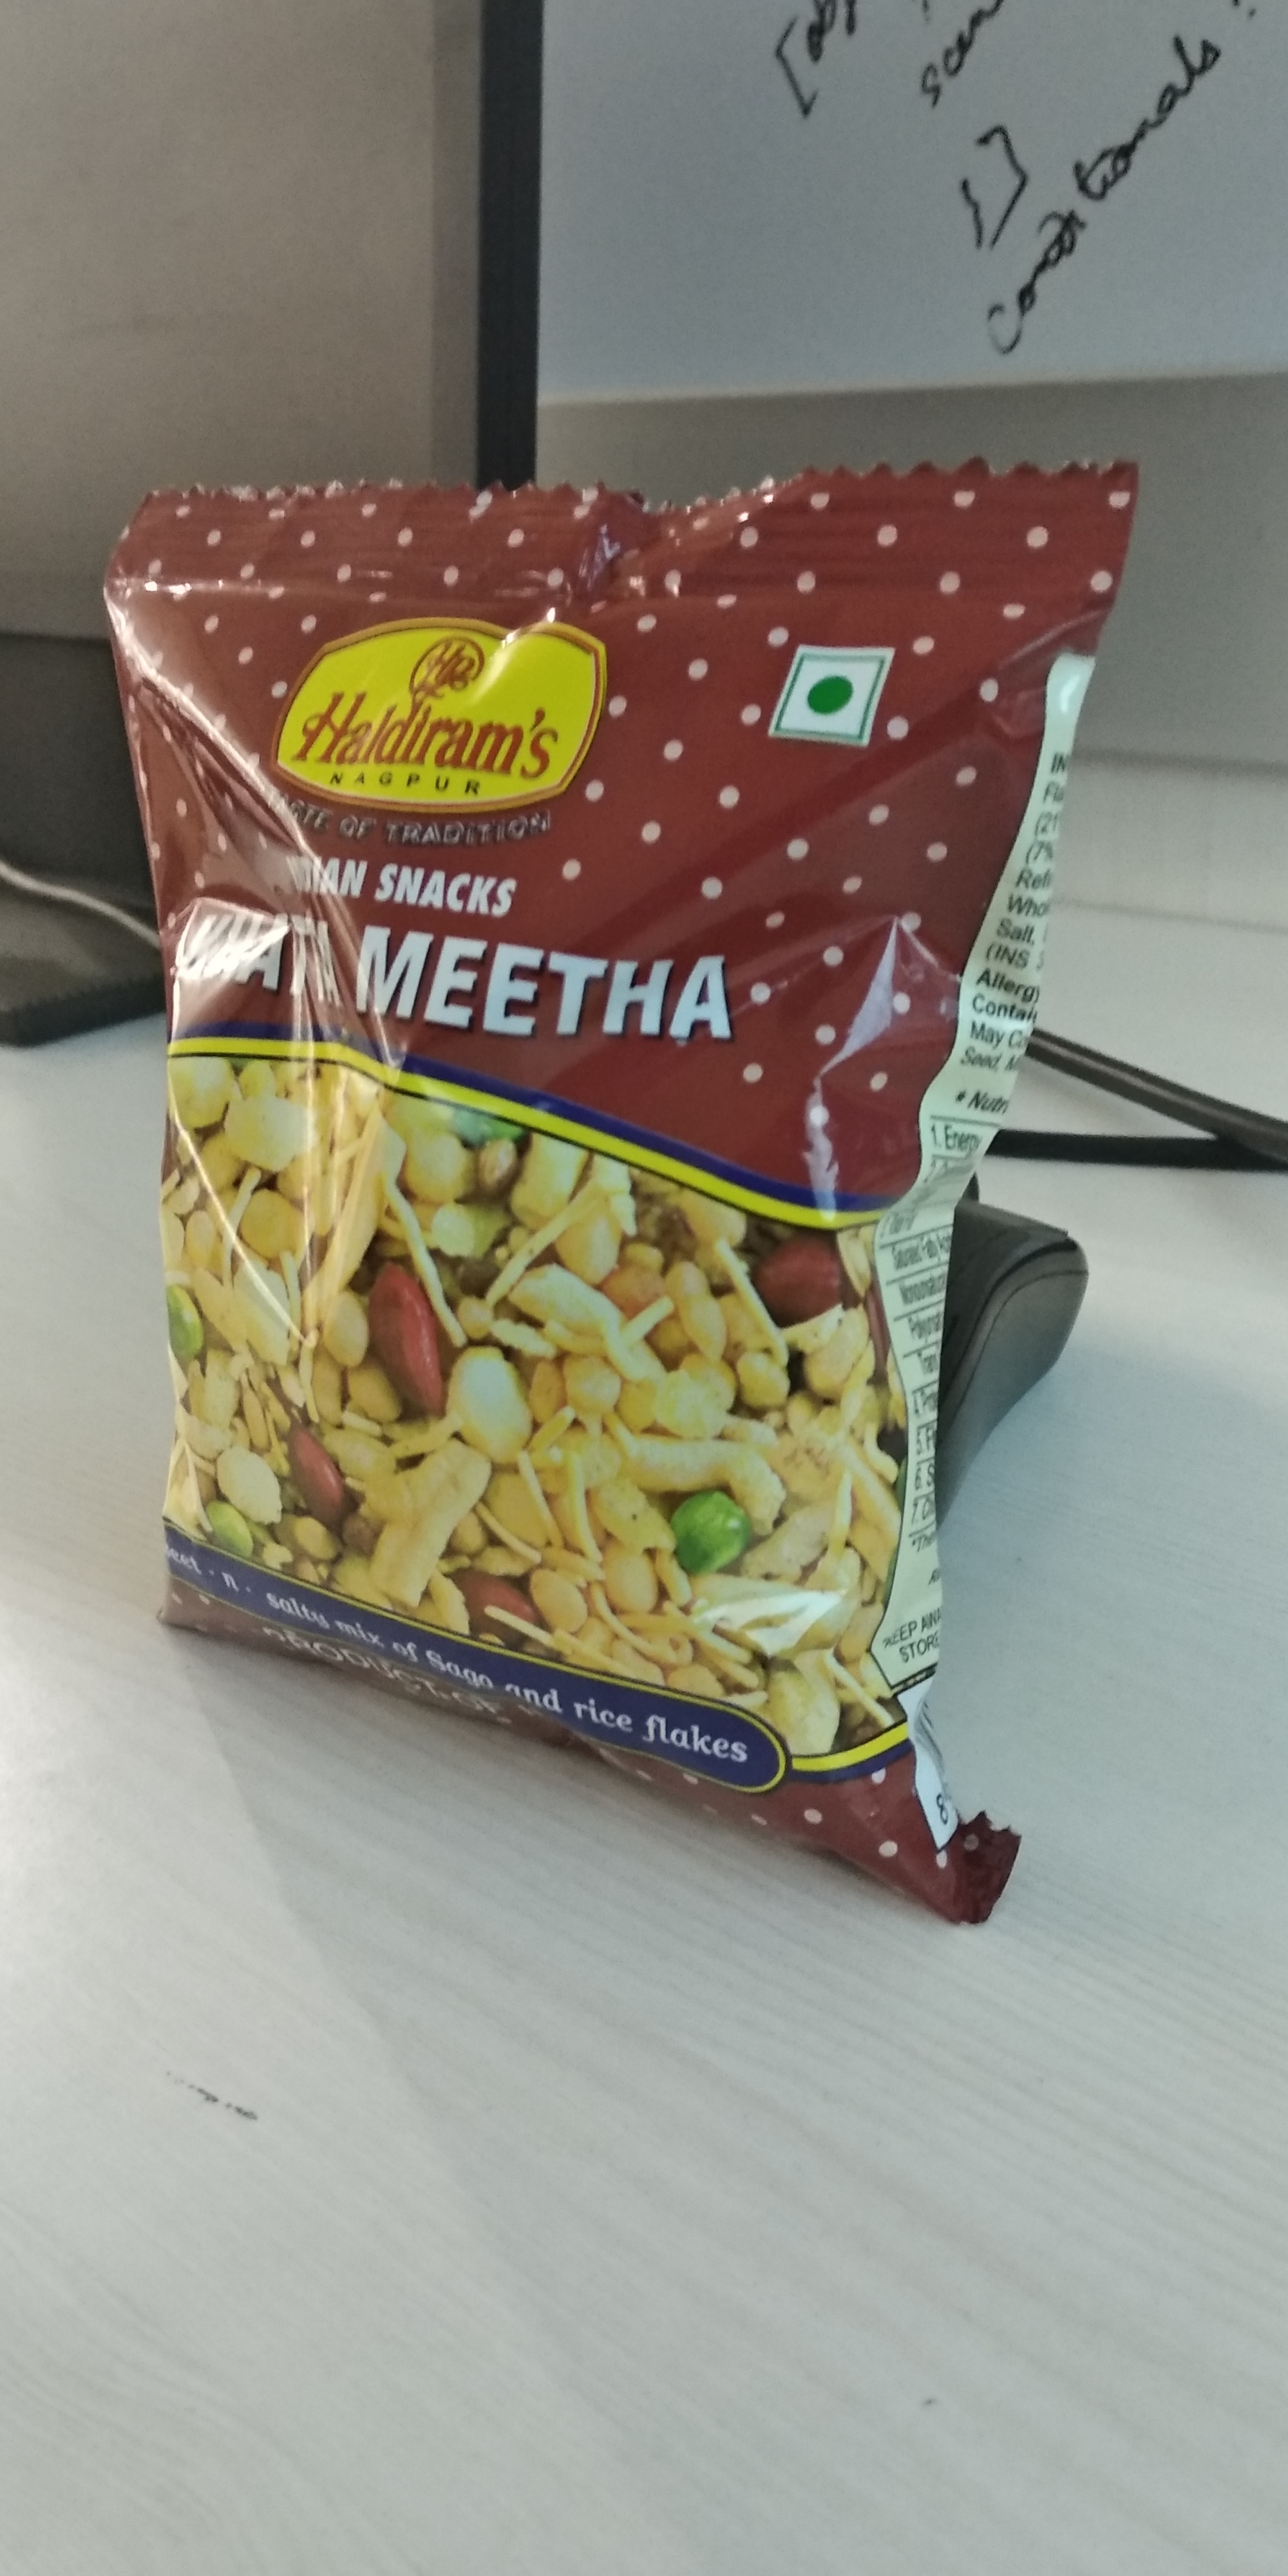khataMeetha: (94, 490, 1120, 1925)
